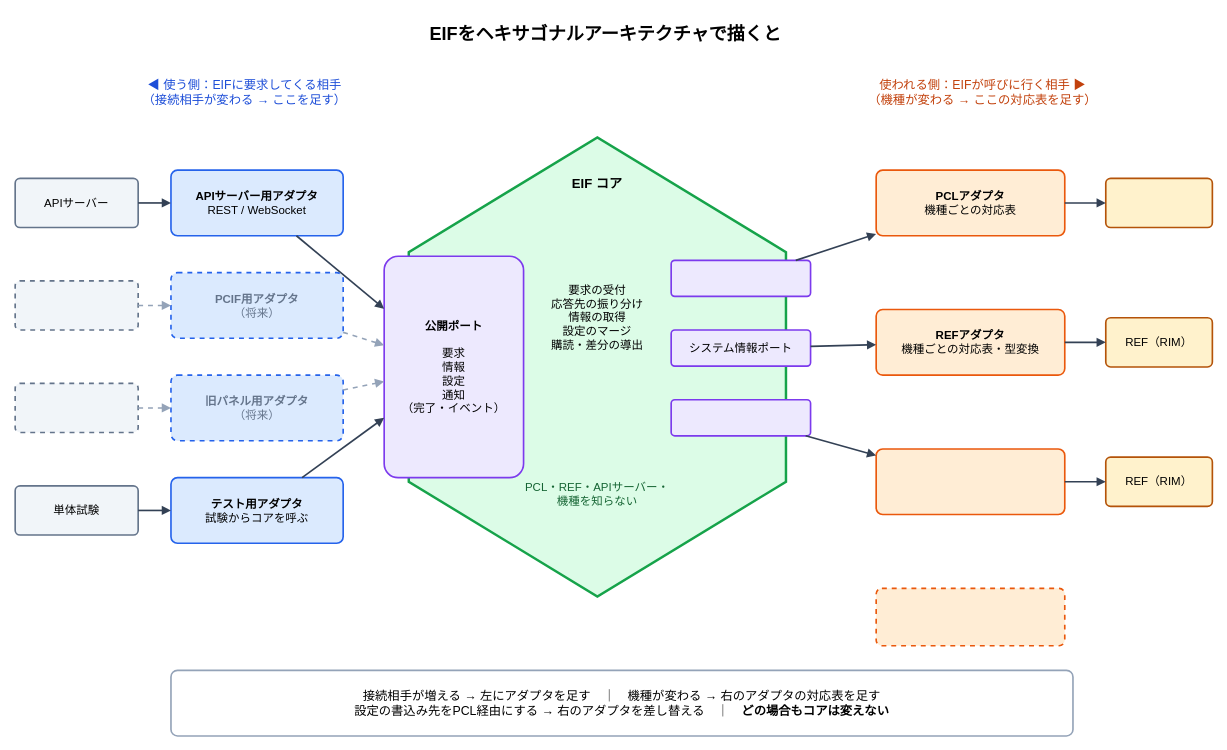
The diagram is 1227 pixels wide and 750 high, and some of its shapes have lost their labels. Here are the shapes that lost their labels. From the top down, the centre of each, then its label:
point (1159, 202): PCL
point (740, 278): 製品制御ポート
point (76, 305): PCインタフェース
point (76, 407): 旧パネル
point (740, 417): 設定保存ポート
point (970, 481): REF書込みアダプタ ※PCL経由へ差し替え可
point (970, 616): テスト用の偽物アダプタ PCL・REFの代わり
